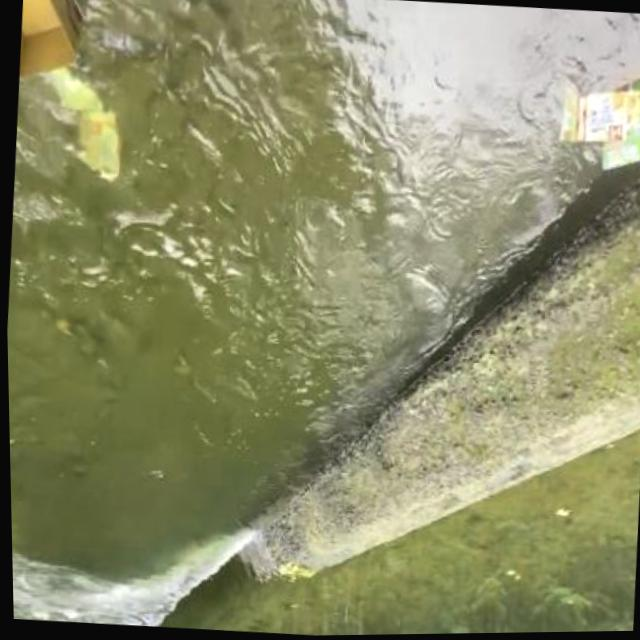Cardboard: (23, 56, 129, 190), (552, 80, 640, 182), (15, 0, 94, 92)
